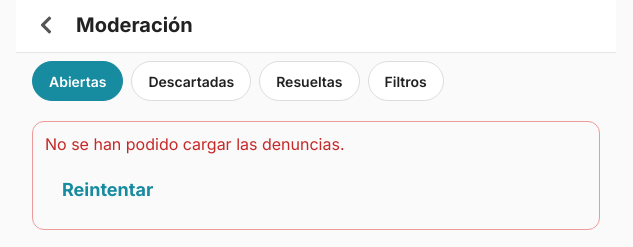
Admin queue › shows an inline error and retries
Expected: the message "No se han podido cargar las denuncias. Reintentar" is shown, [32,121,600,230]
Click the button "Reintentar". click: (108, 190)
box: [45,162,170,217]
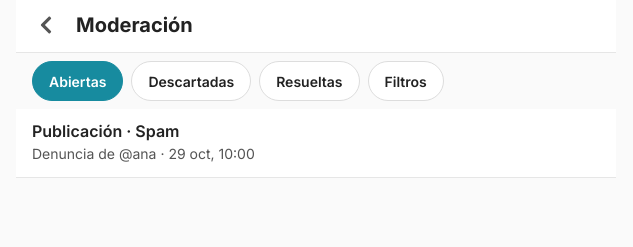
Expected: the text "Publicación · Spam" is shown, [32,121,180,141]
